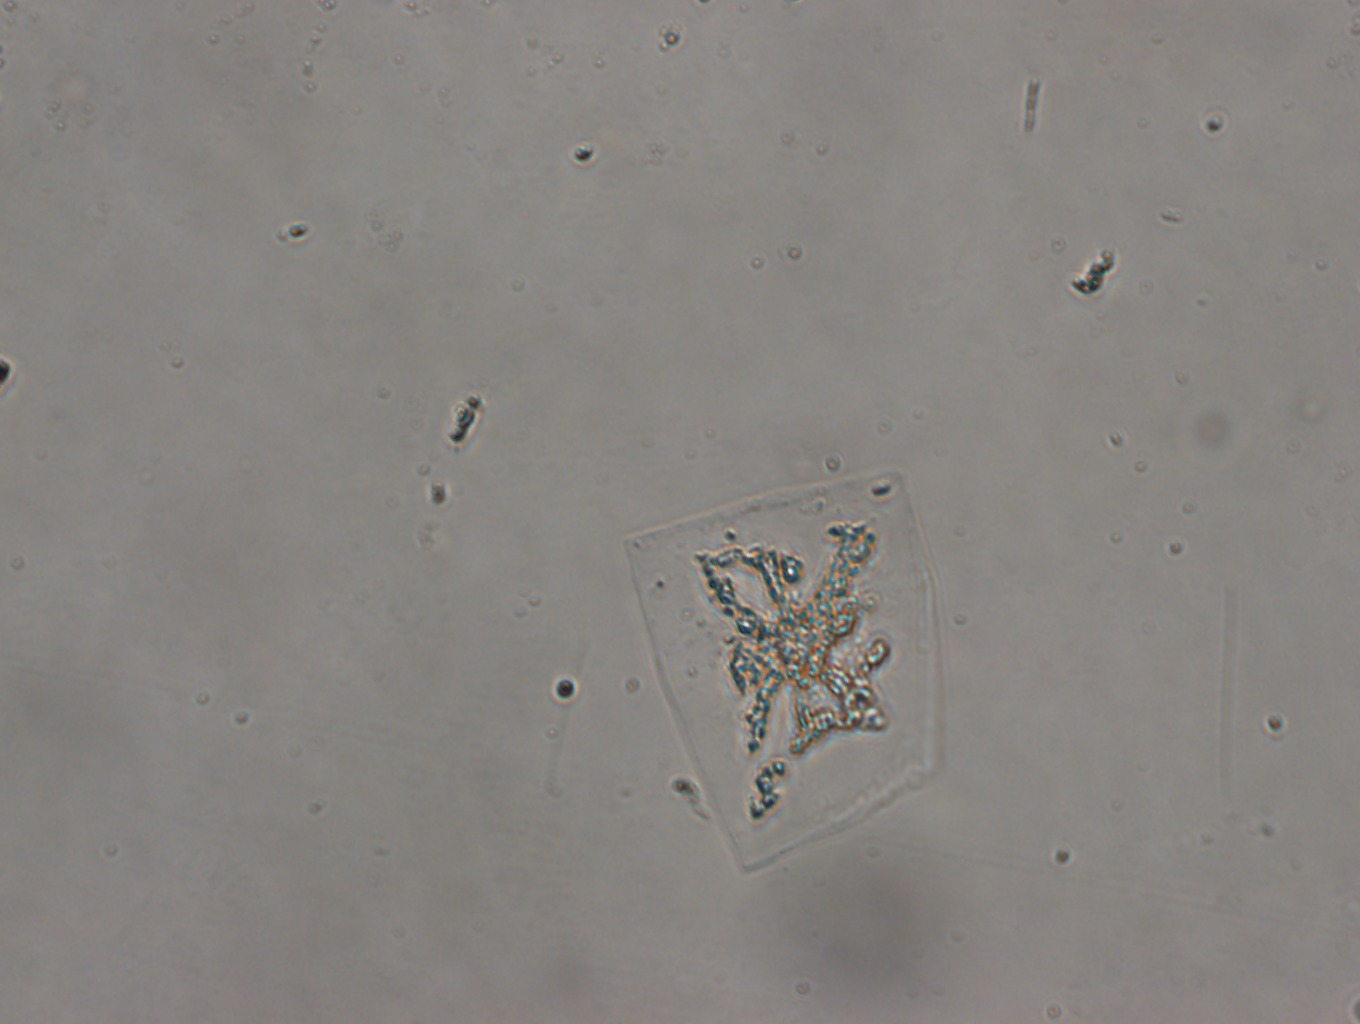helicotheca: (622, 467, 944, 878)
